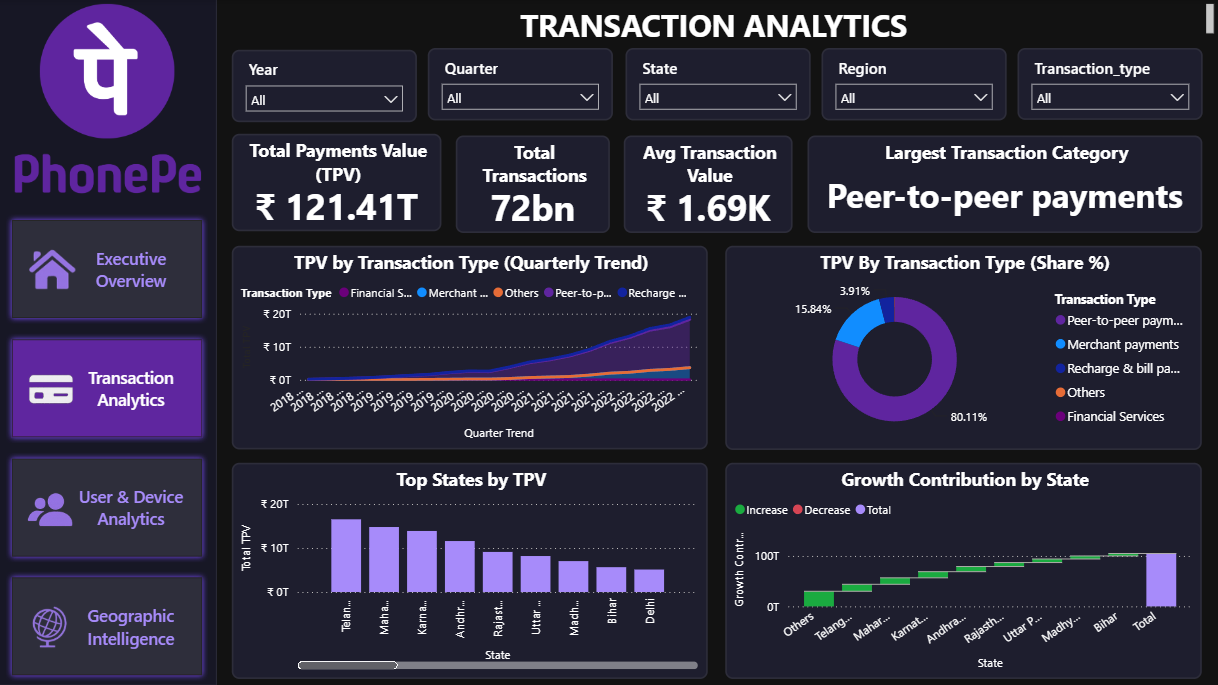

Layout of this report page (visuals, bound fields, positions):
{"tool":"powerbi","page":{"name":"Transaction Analytics","canvas":[1280,720],"ordinal":1},"visuals":[{"type":"shape","box":[0,0,228.6,720.4],"z":0},{"type":"pageNavigator","box":[8.2,226.1,212.2,493.9],"z":500},{"type":"image","box":[34.7,0,157.1,151],"z":1000},{"type":"image","box":[0,132.7,228.6,89.8],"z":2000},{"type":"textbox","box":[228,0,1052,46],"z":3000},{"type":"image","box":[22,373.3,65.3,72],"z":4000},{"type":"slicer","title":"Year","fields":{"Values":["Dim_Date.Year"]},"box":[244.1,52.6,194,76],"z":5000},{"type":"slicer","title":"Year","fields":{"Values":["Dim_Date.Quarter"]},"box":[450.3,52.2,194,76],"z":6000},{"type":"slicer","title":"Year","fields":{"Values":["Dim_State.State"]},"box":[656.6,52.2,194,76],"z":7000},{"type":"slicer","title":"Year","fields":{"Values":["Dim_State.Region"]},"box":[862.8,52.2,194,76],"z":8000},{"type":"slicer","title":"Year","fields":{"Values":["agg_trans.Transaction_type"]},"box":[1067.8,52.2,194.4,75.6],"z":9000},{"type":"card","title":"Total Payments Value (TPV)","fields":{"Values":["agg_trans.Total TPV"]},"box":[244.3,142.1,220,102.1],"z":10000},{"type":"card","title":"Total Transactions","fields":{"Values":["agg_trans.Total Transactions"]},"box":[479.3,142.4,161.9,102.2],"z":11000},{"type":"card","title":"Avg Transaction Value","fields":{"Values":["agg_trans.Average Transaction Value"]},"box":[656.2,142.4,177.3,102.2],"z":12000},{"type":"card","title":"Largest Transaction Category","fields":{"Values":["agg_trans.Largest Transaction Category"]},"box":[848.2,142.7,414.5,102.2],"z":13000},{"type":"stackedAreaChart","title":"TPV by Transaction Type (Quarterly Trend)","fields":{"Y":["agg_trans.Total TPV"],"Category":["Dim_Date.Quarter Label"],"Series":["agg_trans.Transaction_type"]},"box":[244.8,258.3,499.3,214],"z":14000},{"type":"donutChart","title":"TPV By Transaction Type (Share %)","fields":{"Category":["agg_trans.Transaction_type"],"Y":["agg_trans.Total TPV"]},"box":[762,258,500,214],"z":15000},{"type":"columnChart","title":"Top States by TPV","fields":{"Category":["agg_trans.State"],"Y":["agg_trans.Total TPV"]},"box":[244.6,486.2,499.2,226.9],"z":16000},{"type":"waterfallChart","fields":{"Category":["Waterfall States.State Display"],"Y":["Waterfall States.Waterfall Growth Contribution"]},"box":[762,486,500,227],"z":18000},{"type":"image","box":[22.3,503.1,63.1,63.8],"z":20000},{"type":"image","box":[22.3,627.7,63.1,62.3],"z":21000},{"type":"image","box":[23.1,251.5,63.8,63.8],"z":22000}]}

Visuals, with their boxes in screenshot pixels (x1, y1, x2, y2), scaled from the page's 1280x720 canvas onto the 1218x685 screenshot:
shape: locate(0, 0, 218, 684)
pageNavigator: locate(8, 215, 210, 684)
image: locate(33, 0, 183, 144)
image: locate(0, 126, 218, 212)
textbox: locate(217, 0, 1217, 44)
image: locate(21, 355, 83, 424)
"Year" slicer: locate(232, 50, 417, 122)
"Year" slicer: locate(428, 50, 613, 122)
"Year" slicer: locate(625, 50, 809, 122)
"Year" slicer: locate(821, 50, 1006, 122)
"Year" slicer: locate(1016, 50, 1201, 122)
"Total Payments Value (TPV)" card: locate(232, 135, 442, 232)
"Total Transactions" card: locate(456, 135, 610, 233)
"Avg Transaction Value" card: locate(624, 135, 793, 233)
"Largest Transaction Category" card: locate(807, 136, 1202, 233)
"TPV by Transaction Type (Quarterly Trend)" stackedAreaChart: locate(233, 246, 708, 449)
"TPV By Transaction Type (Share %)" donutChart: locate(725, 245, 1201, 449)
"Top States by TPV" columnChart: locate(233, 463, 708, 678)
waterfallChart - Waterfall States.State Display x Waterfall States.Waterfall Growth Contribution: locate(725, 462, 1201, 678)
image: locate(21, 479, 81, 539)
image: locate(21, 597, 81, 656)
image: locate(22, 239, 83, 300)
